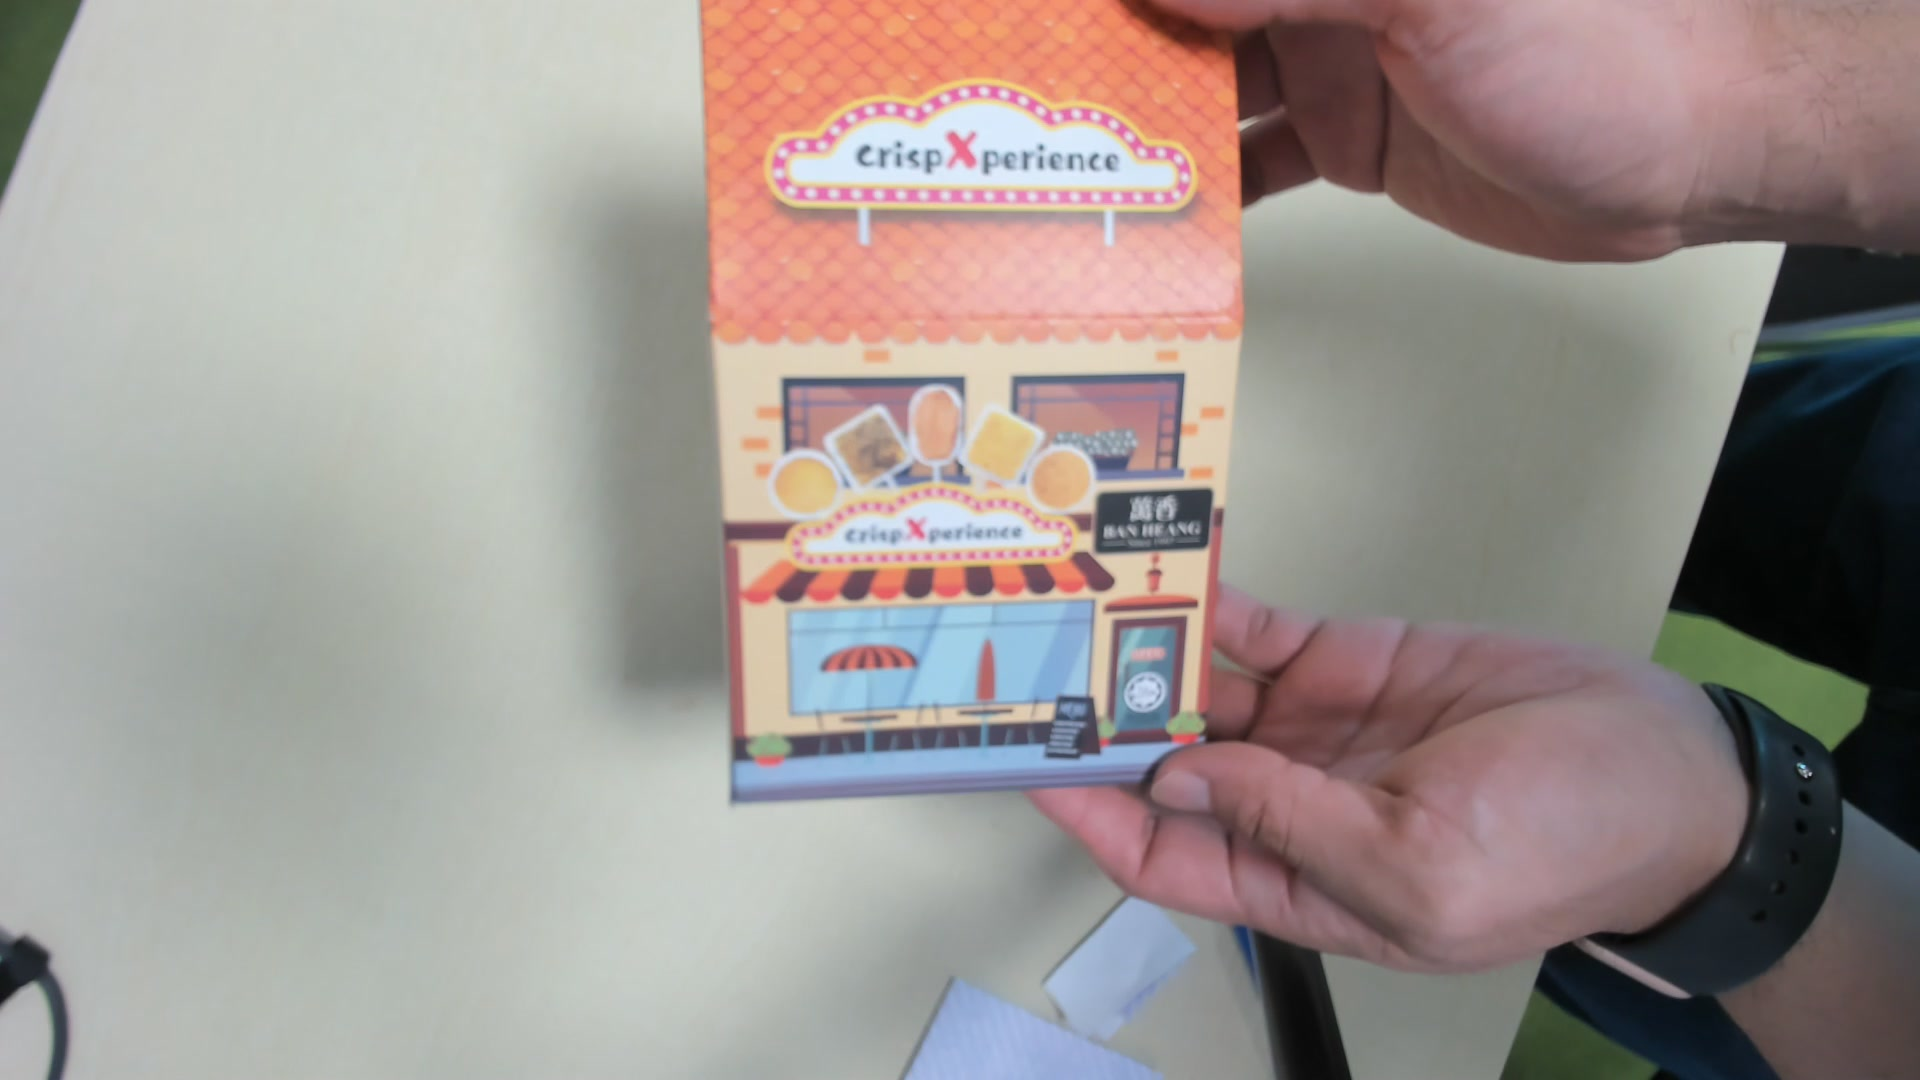SweetsChocolatesOthers_0-99g_Halal_Nonhealthy: (696, 1, 1246, 820)
